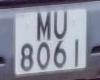0: (34, 39, 54, 74)
1: (71, 37, 84, 73)
6: (52, 38, 70, 73)
8: (18, 40, 36, 76)
M: (34, 9, 54, 44)
U: (52, 9, 71, 41)
